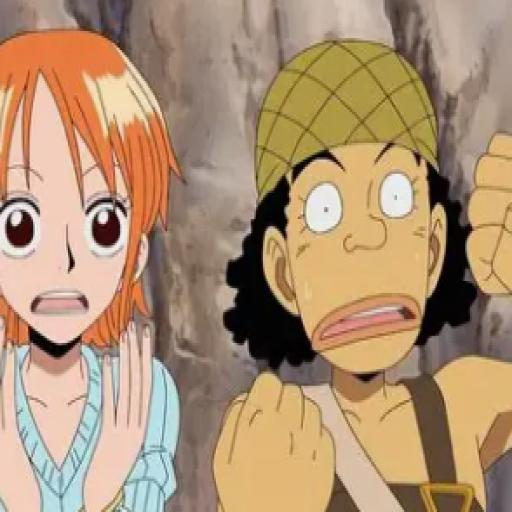Nami: (0, 28, 186, 512)
Usopp: (207, 33, 510, 512)
